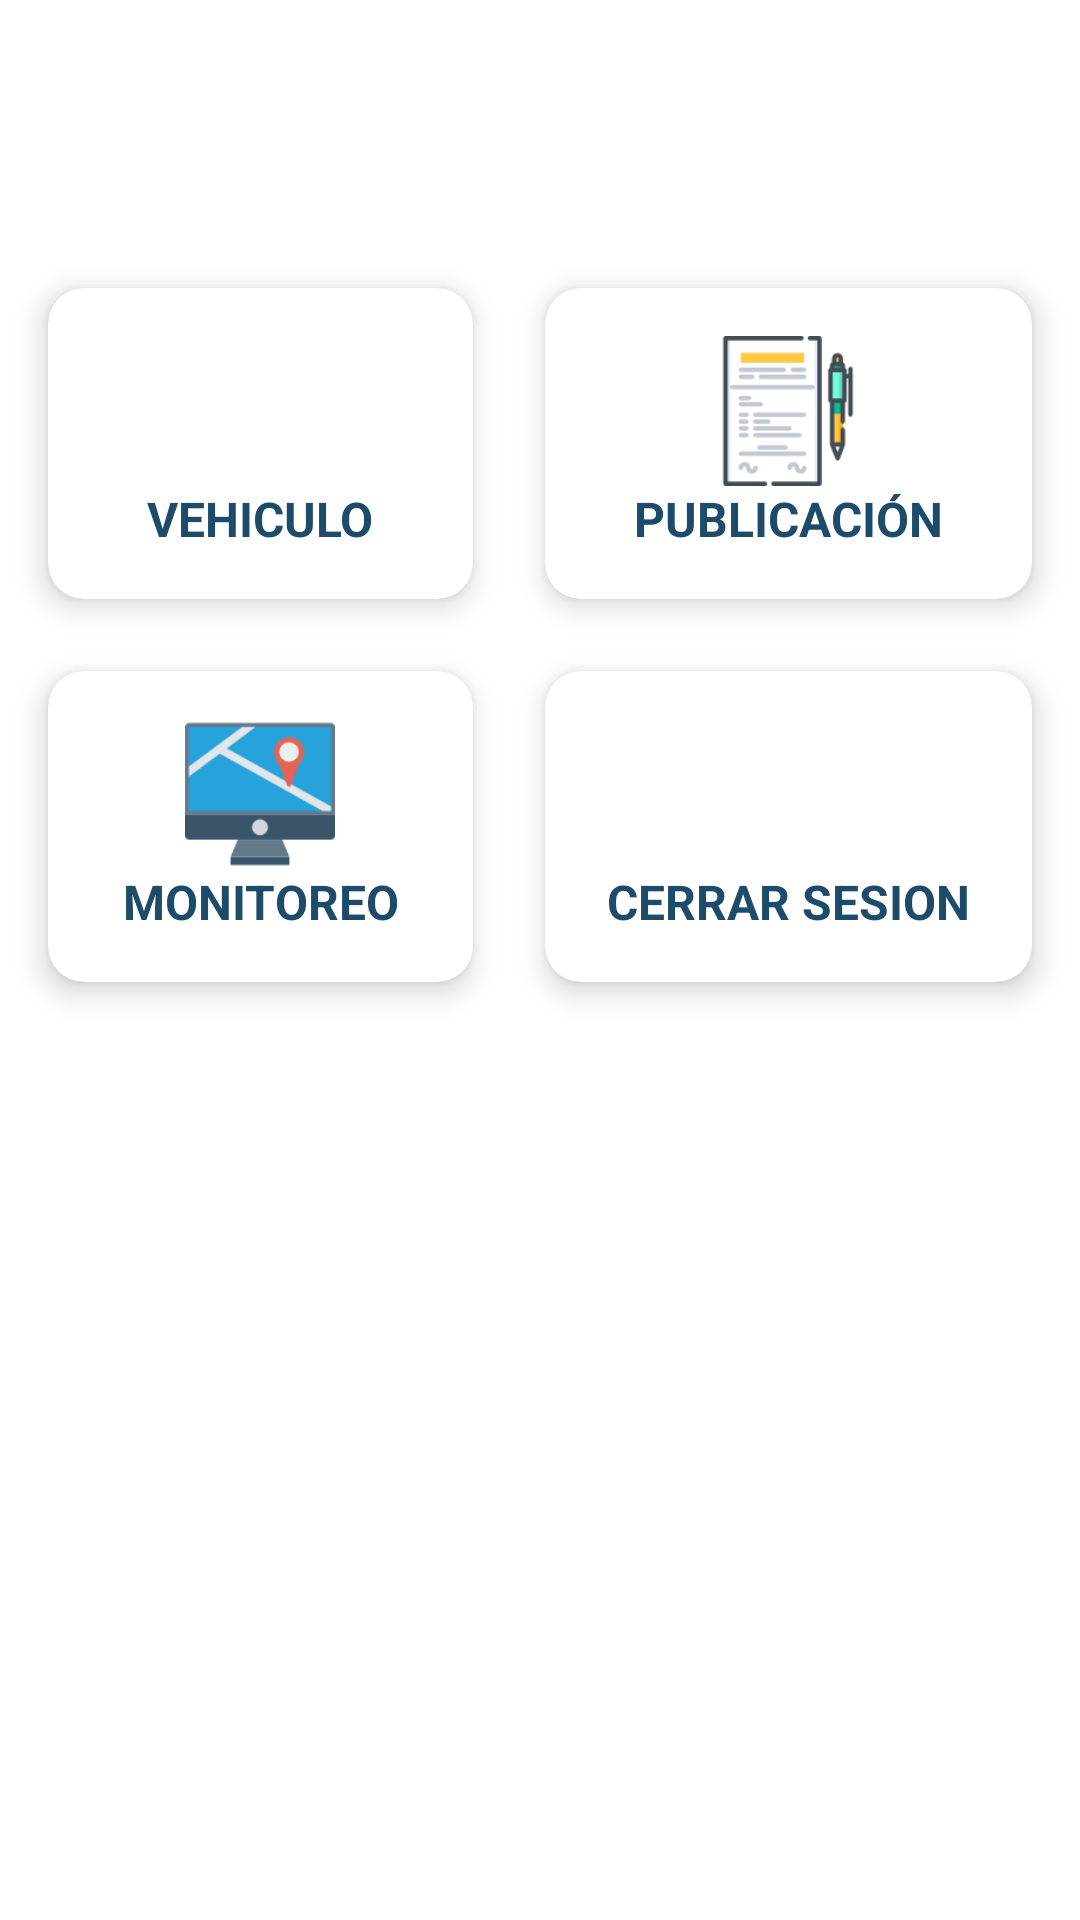

Where to tap for icons on this 1080w x 1920h app screen, as [x,y]:
contrato: [788,411]
